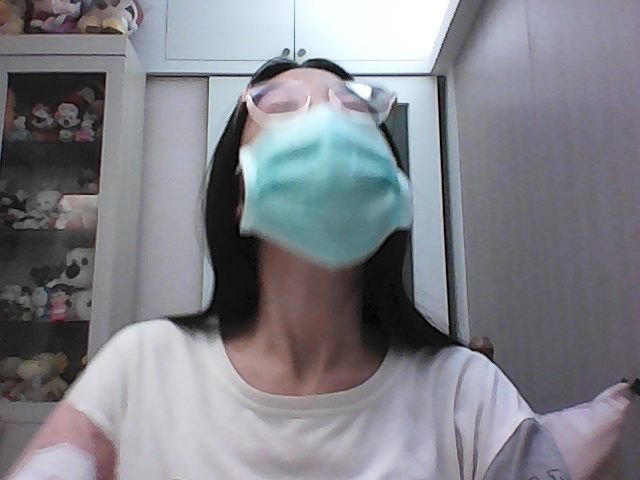Mask: (209, 112, 417, 274)
